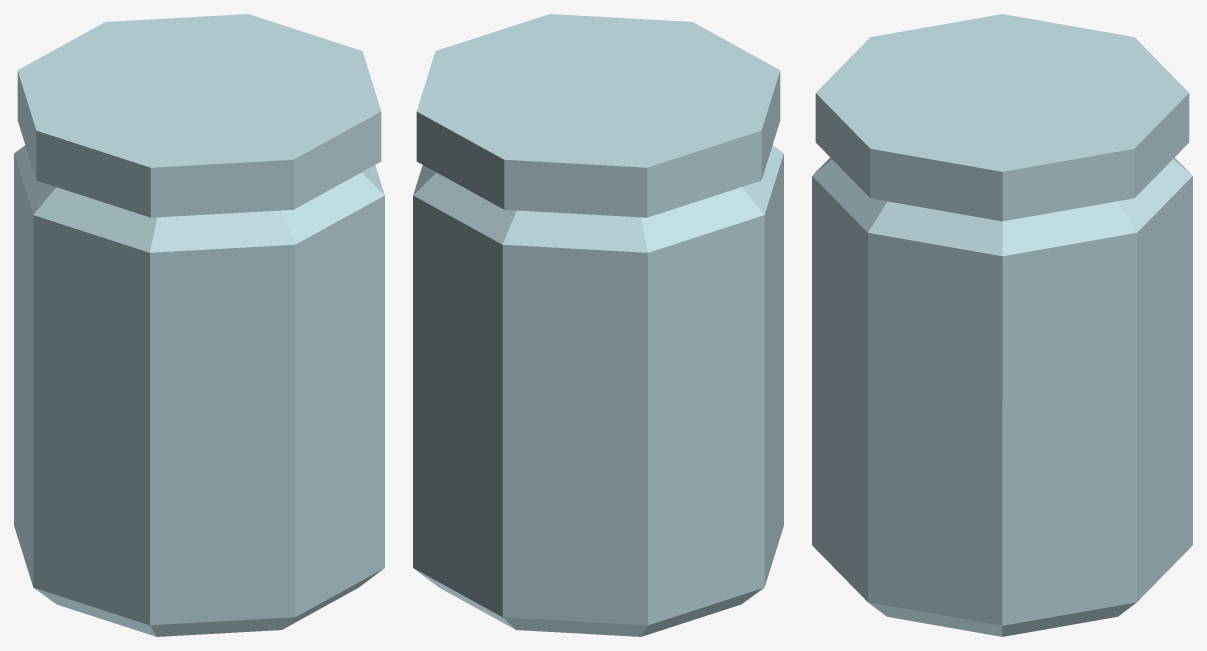
File: jar.fbx
The picture shows the model from 3 angles, left to right: view 1: azimuth 30°, elevation 25°; view 2: azimuth 150°, elevation 25°; view 3: azimuth 270°, elevation 25°; orthographic projection.
Parts seen in each view (by area): view 1: jar; view 2: jar; view 3: jar.
Part boxes in pixels (<box>): jar: <box>14,14,384,636</box>; jar: <box>413,14,783,636</box>; jar: <box>812,14,1192,636</box>.
Size of the model in its own units: 16.66 by 22.94 by 16.66.
